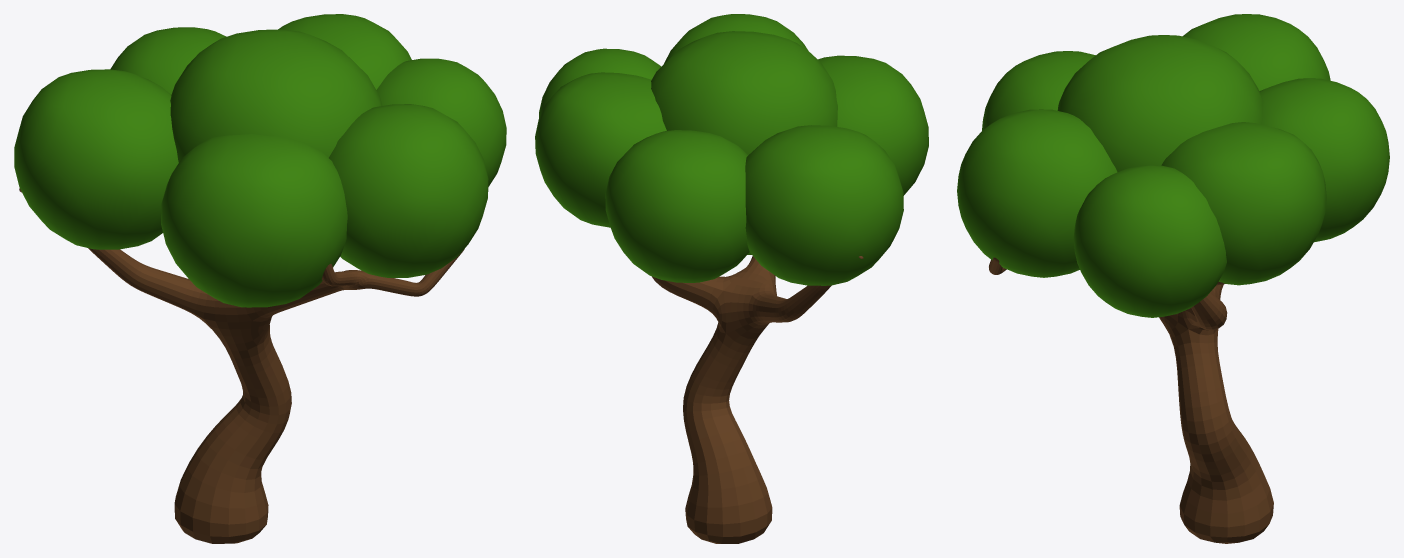
The model's file is tree.fbx.
The picture shows the model from 3 angles, left to right: view 1: azimuth 30°, elevation 25°; view 2: azimuth 150°, elevation 25°; view 3: azimuth 270°, elevation 25°; orthographic projection. The views are drawn at different scales.
Parts seen in each view (by area): view 1: Icosphere.008; view 2: Icosphere.008; view 3: Icosphere.008.
Boxes of the visible parts, <box> form: Icosphere.008: <box>14,14,506,543</box>; Icosphere.008: <box>535,14,928,543</box>; Icosphere.008: <box>957,14,1389,543</box>.
Bounding box in the file's own units: 443 × 514 × 407.
